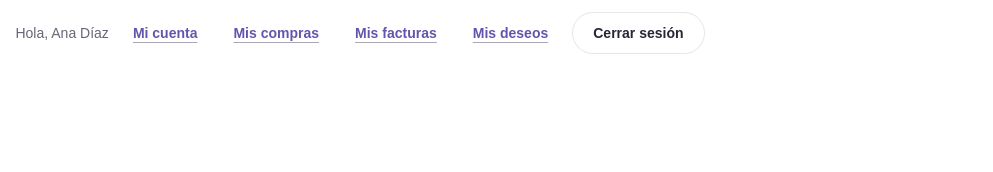
Scenario: storefront authentication › revokes logout, clears memory and announces the result
Click the button "Cerrar sesión" at {"x": 638, "y": 33}, box [572,12,704,54]
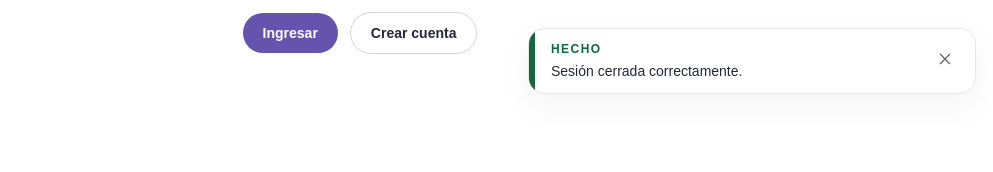
Check: the text "Sesión cerrada correctamente." is shown, box [551,63,742,79]
